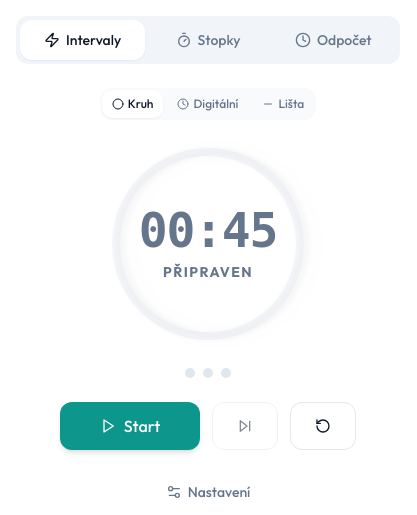
Scenario: ExerciseTimer counts in every mode › stopwatch: counts up
The image size is (417, 515).
Click the button "Stopky".
click(208, 40)  # box [145,20,271,60]
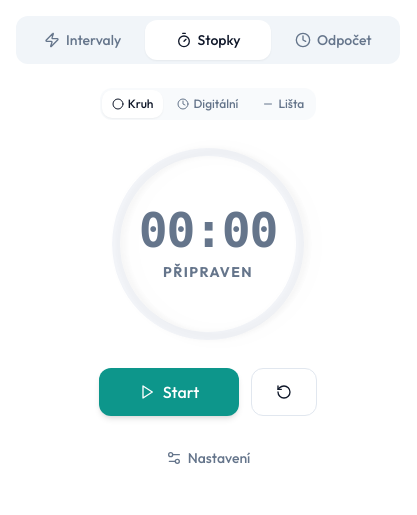
Click the button "Start".
click(169, 392)  # box [99,368,239,416]
Wait 4000 ms
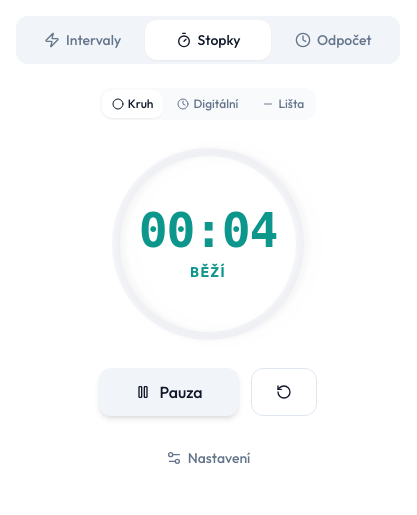
Expected: the text "00:04" is shown, [139,206,277,254]
